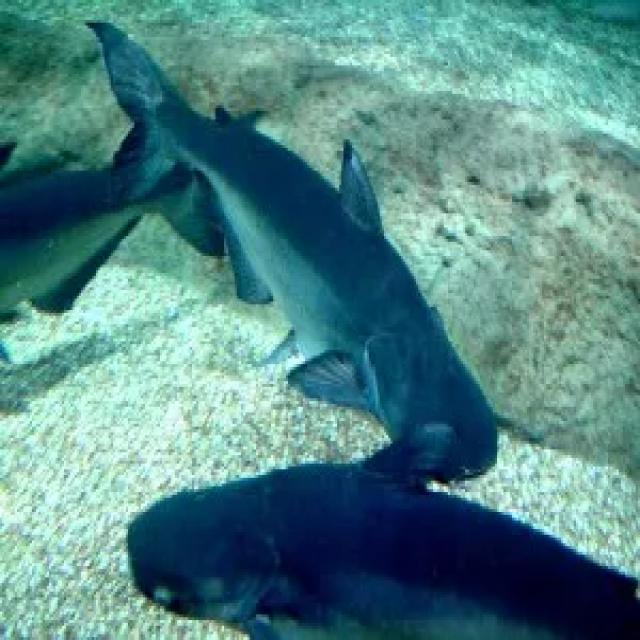Mekong_Giant_Catfish: (81, 15, 504, 487)
